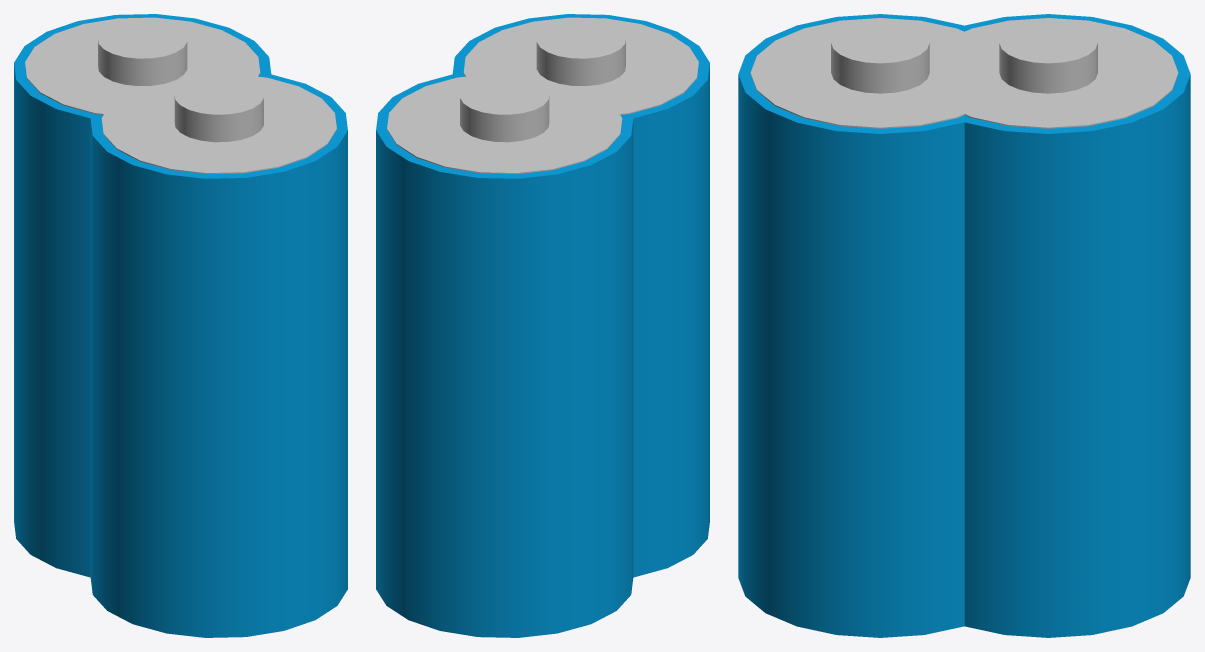
The model's file is battery.fbx.
3 renders of one model, left to right at view 1: azimuth 30°, elevation 25°; view 2: azimuth 150°, elevation 25°; view 3: azimuth 270°, elevation 25°, orthographic. The views are drawn at different scales.
Visible parts, largest first — view 1: pCylinder7; view 2: pCylinder7; view 3: pCylinder7.
Part boxes in pixels (x1,y1,x2,y2): pCylinder7: (14, 14, 347, 637); pCylinder7: (376, 14, 709, 637); pCylinder7: (738, 14, 1190, 637).
Bounding box in the file's own units: 1.02 × 2.12 × 1.63.
